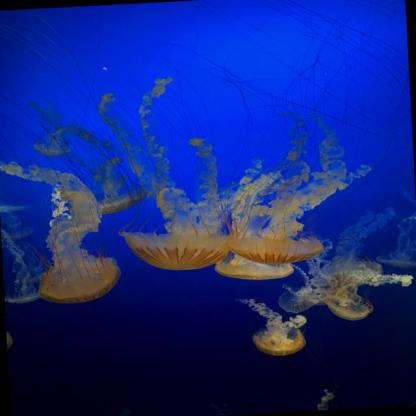jellyfish: (121, 226, 235, 274), (36, 256, 122, 306), (228, 232, 326, 265), (214, 245, 294, 282), (254, 324, 308, 357), (324, 286, 370, 322), (314, 262, 382, 285), (84, 192, 149, 216), (277, 287, 323, 314), (374, 255, 415, 272), (35, 142, 72, 158), (3, 222, 35, 240), (7, 291, 43, 305)
